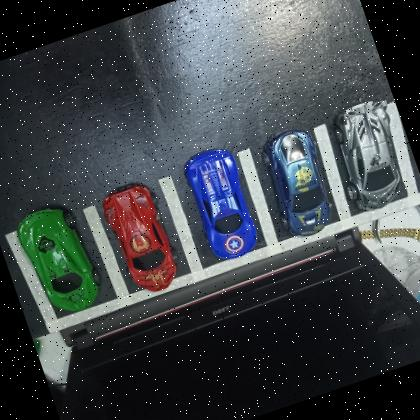Car: (322, 94, 420, 217), (11, 199, 106, 322), (97, 176, 186, 300), (253, 122, 342, 244), (179, 143, 265, 264)
